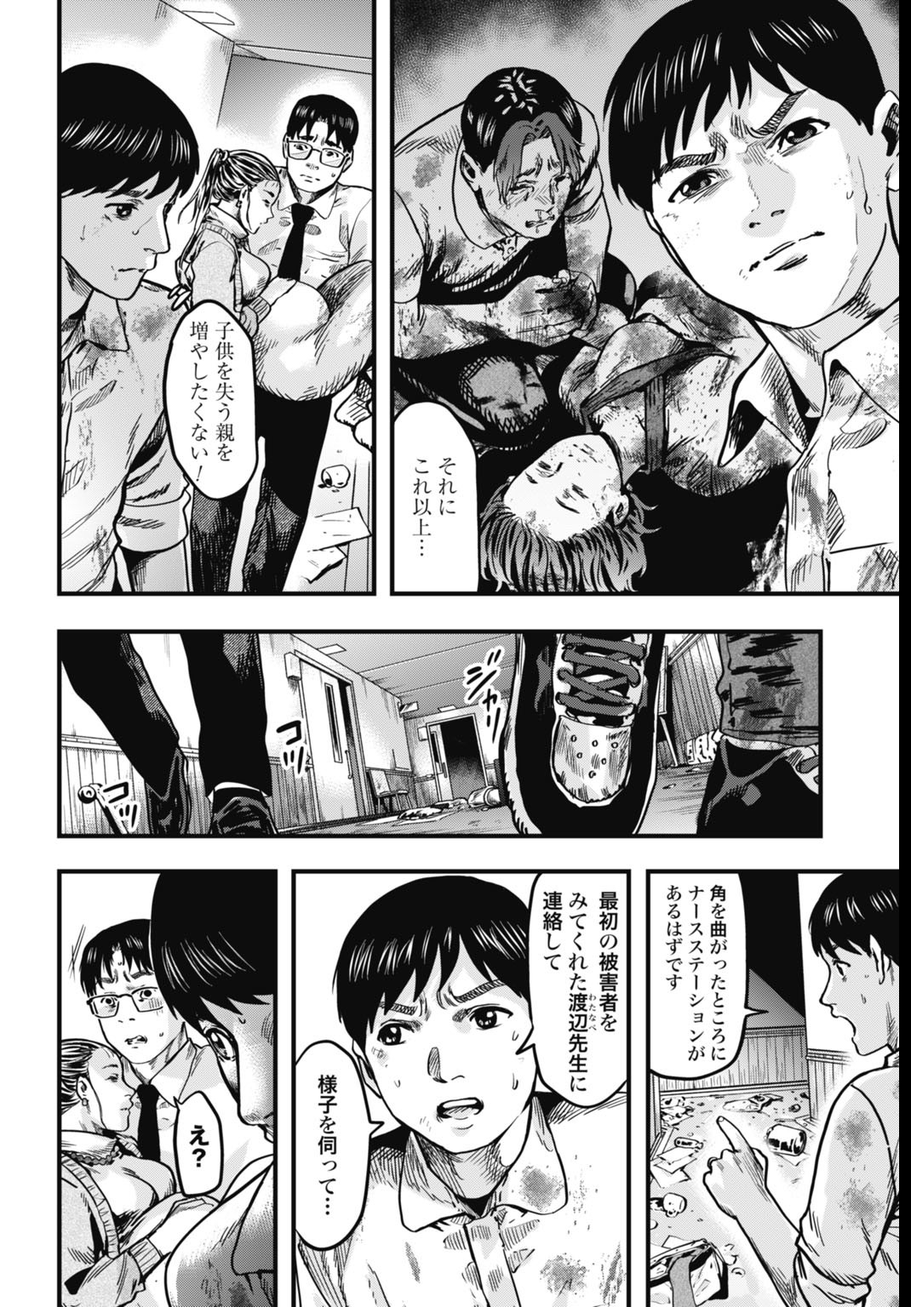bubbles: (510, 872, 631, 1110), (646, 870, 775, 1093), (158, 297, 279, 507), (294, 1037, 384, 1254), (391, 397, 489, 596), (166, 1089, 228, 1205)
